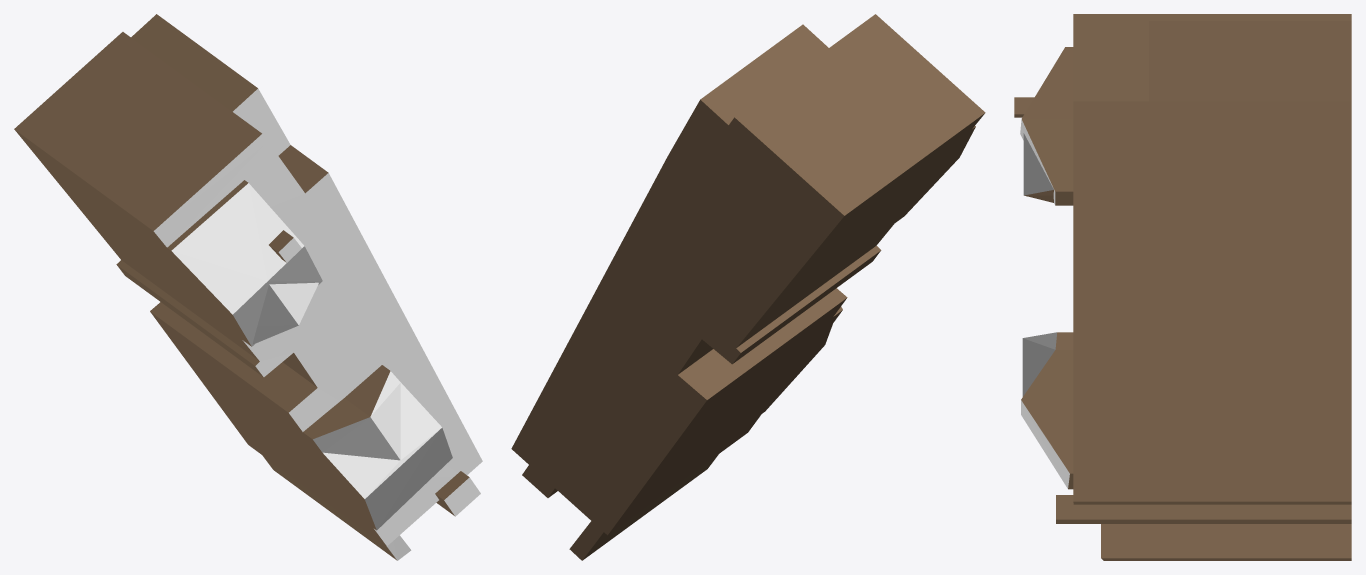
3 renders of one model, left to right at view 1: azimuth 30°, elevation 25°; view 2: azimuth 150°, elevation 25°; view 3: azimuth 270°, elevation 25°, orthographic.
Parts seen in each view (by area): view 1: City_PC-08815; view 2: City_PC-08815; view 3: City_PC-08815.
Part boxes in pixels (x1,y1,x2,y2): City_PC-08815: [14, 14, 482, 560]; City_PC-08815: [511, 14, 985, 560]; City_PC-08815: [1014, 14, 1351, 560].
Bounding box in the file's own units: 1988 × 2795 × 1767.
